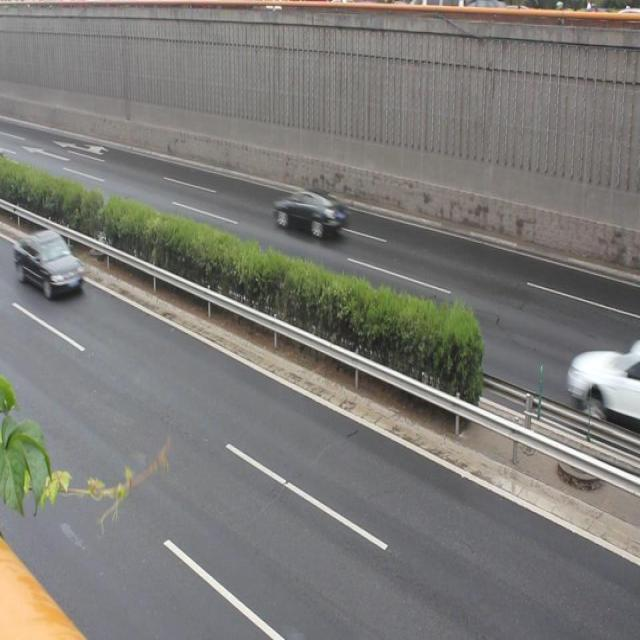car: (564, 328, 640, 426), (17, 224, 82, 302), (273, 177, 342, 245)
